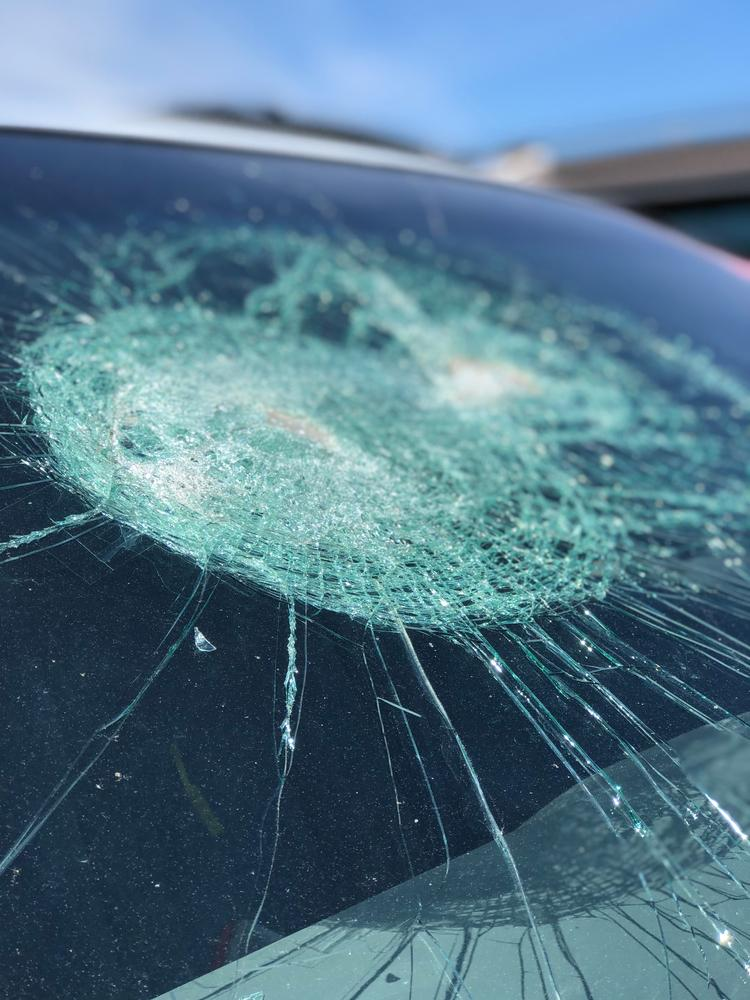glass shatter: (0, 129, 750, 1000)
